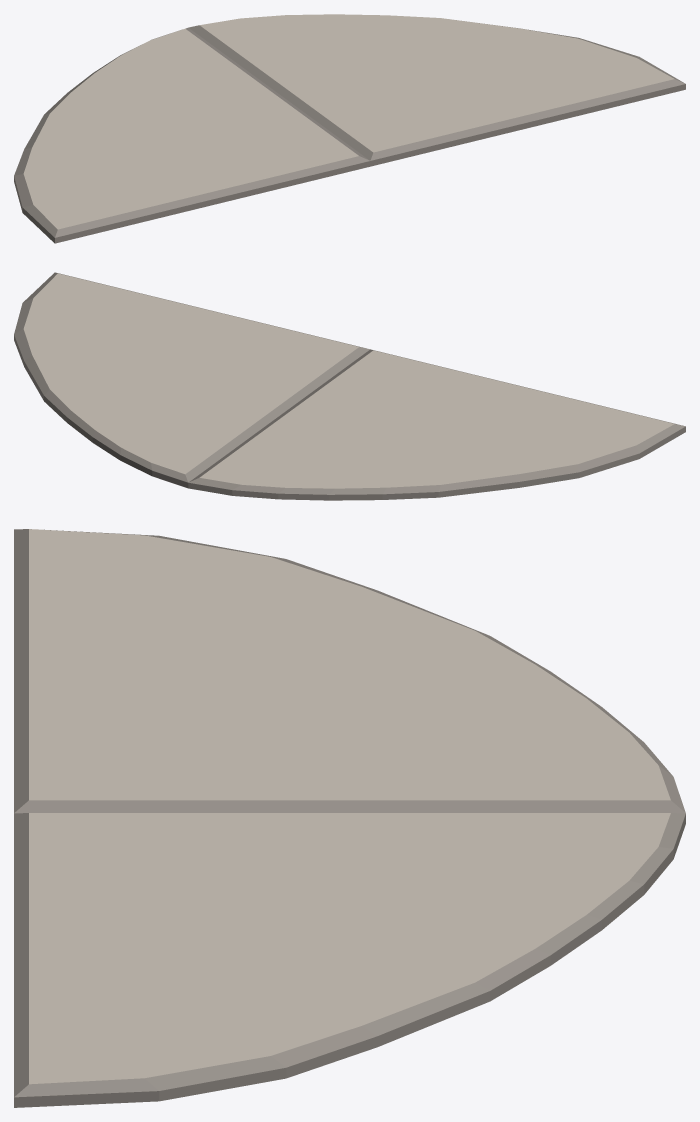
The model's file is Path_Slab_1x2_RoundedEnd.fbx.
3 views of the same model, one above another, from view 1: azimuth 30°, elevation 25°; view 2: azimuth 150°, elevation 25°; view 3: azimuth 270°, elevation 25° (orthographic). The views are drawn at different scales.
Parts seen in each view (by area): view 1: Slab_1x2_RoundedEnd; view 2: Slab_1x2_RoundedEnd; view 3: Slab_1x2_RoundedEnd.
Boxes of the visible parts, bbox=[...] form: Slab_1x2_RoundedEnd: bbox=[14, 14, 685, 243]; Slab_1x2_RoundedEnd: bbox=[14, 272, 685, 500]; Slab_1x2_RoundedEnd: bbox=[14, 529, 685, 1107].
Size of the model in its own units: 200 by 2.98 by 100.
